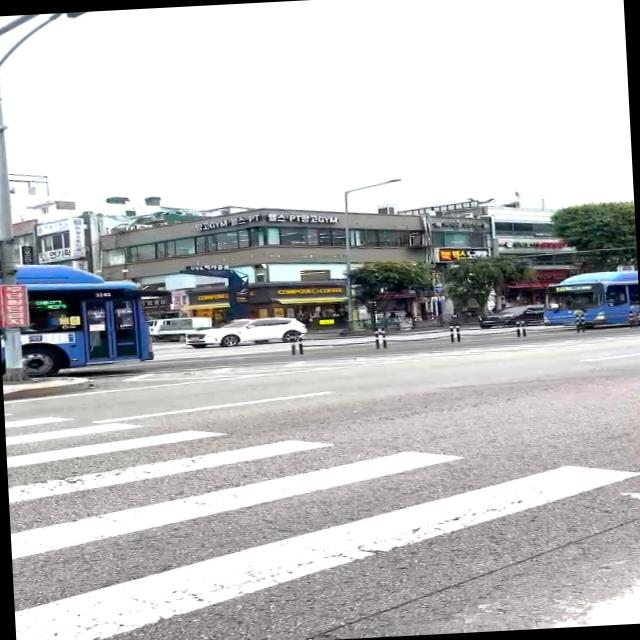building: (116, 192, 486, 294)
car: (183, 315, 308, 349), (476, 303, 546, 329)
